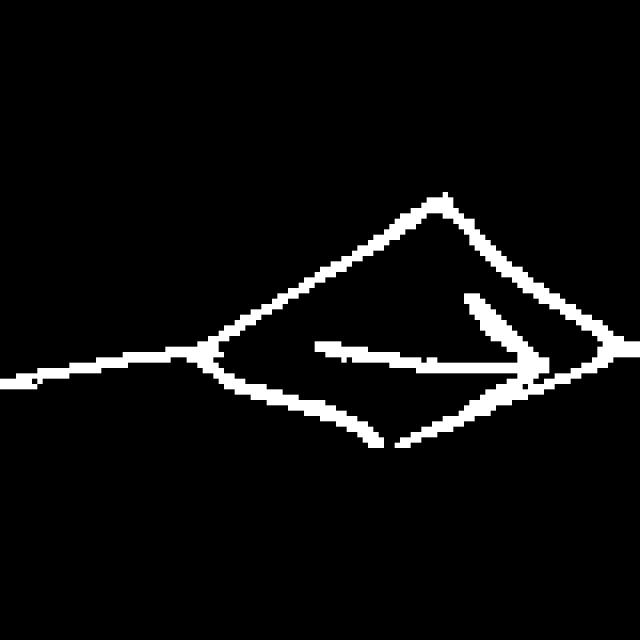dependant_current: (182, 192, 630, 464)
